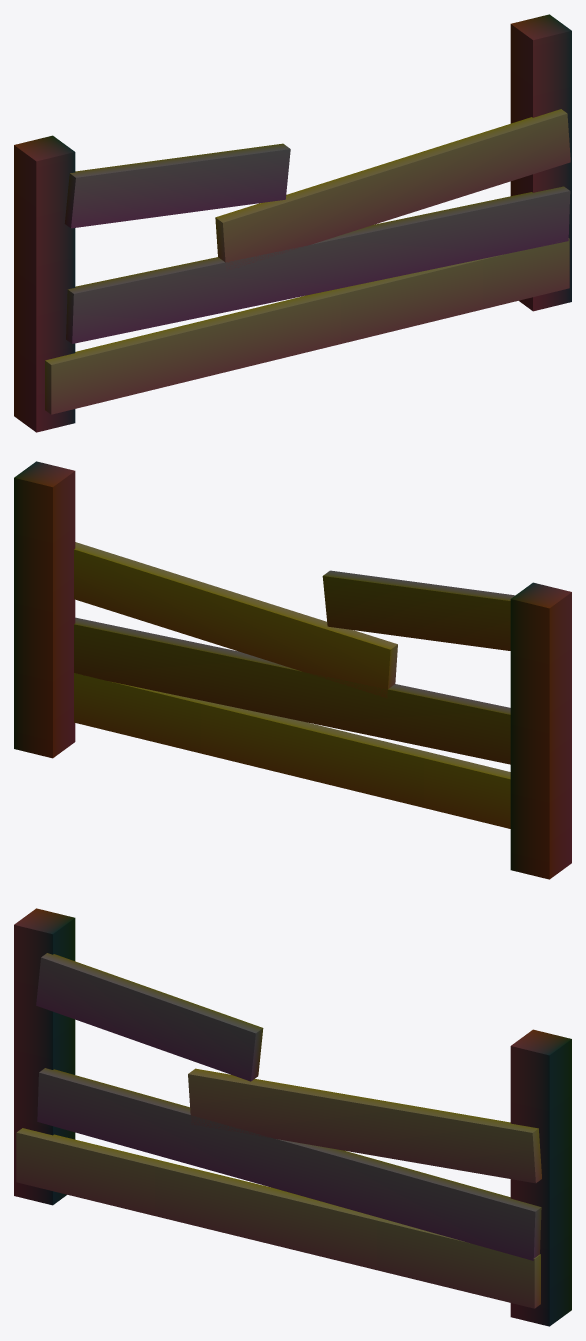
The model's file is PlankWall.fbx.
3 renders of one model, top to bottom at view 1: azimuth 30°, elevation 25°; view 2: azimuth 150°, elevation 25°; view 3: azimuth 330°, elevation 25°, orthographic.
Visible parts, largest first — view 1: PlankWall; view 2: PlankWall; view 3: PlankWall.
Part boxes in pixels (bbox=[...]): PlankWall: bbox=[14, 14, 571, 432]; PlankWall: bbox=[14, 461, 571, 879]; PlankWall: bbox=[14, 908, 571, 1326].
Bounding box in the file's own units: 2.48 × 1.2 × 0.23.
